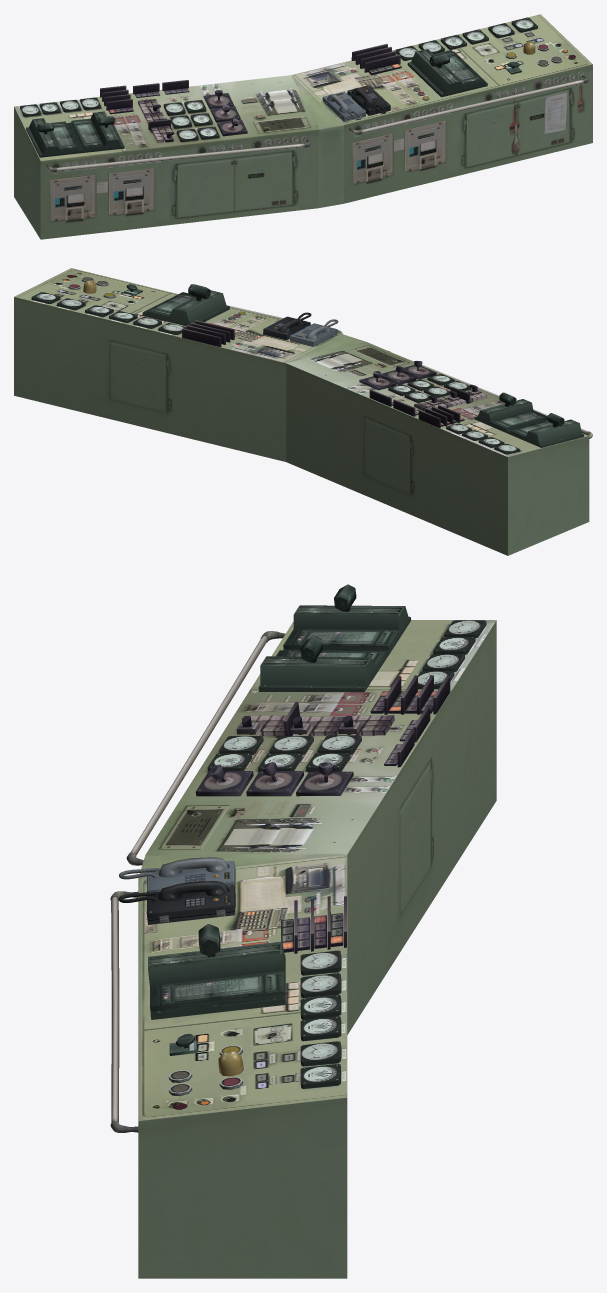
File: Machine_big01.FBX
3 renders of one model, top to bottom at view 1: azimuth 30°, elevation 25°; view 2: azimuth 150°, elevation 25°; view 3: azimuth 270°, elevation 25°, orthographic. The views are drawn at different scales.
Parts seen in each view (by area): view 1: Machine_big01; view 2: Machine_big01; view 3: Machine_big01.
Boxes of the visible parts, x1,y1,x2,y2 form: Machine_big01: (14, 14, 592, 239); Machine_big01: (14, 268, 592, 555); Machine_big01: (110, 584, 496, 1278).
Bounding box in the file's own units: 5.17 × 1.04 × 1.69.
